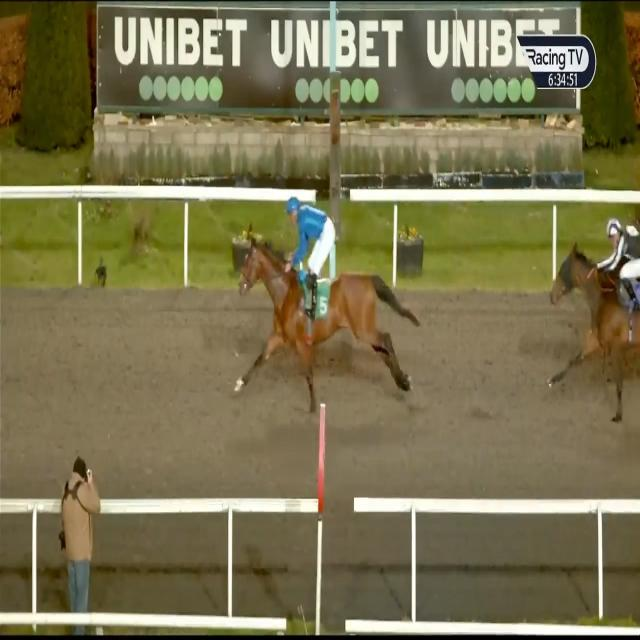horses-racing: (235, 192, 409, 412), (538, 208, 640, 385)
